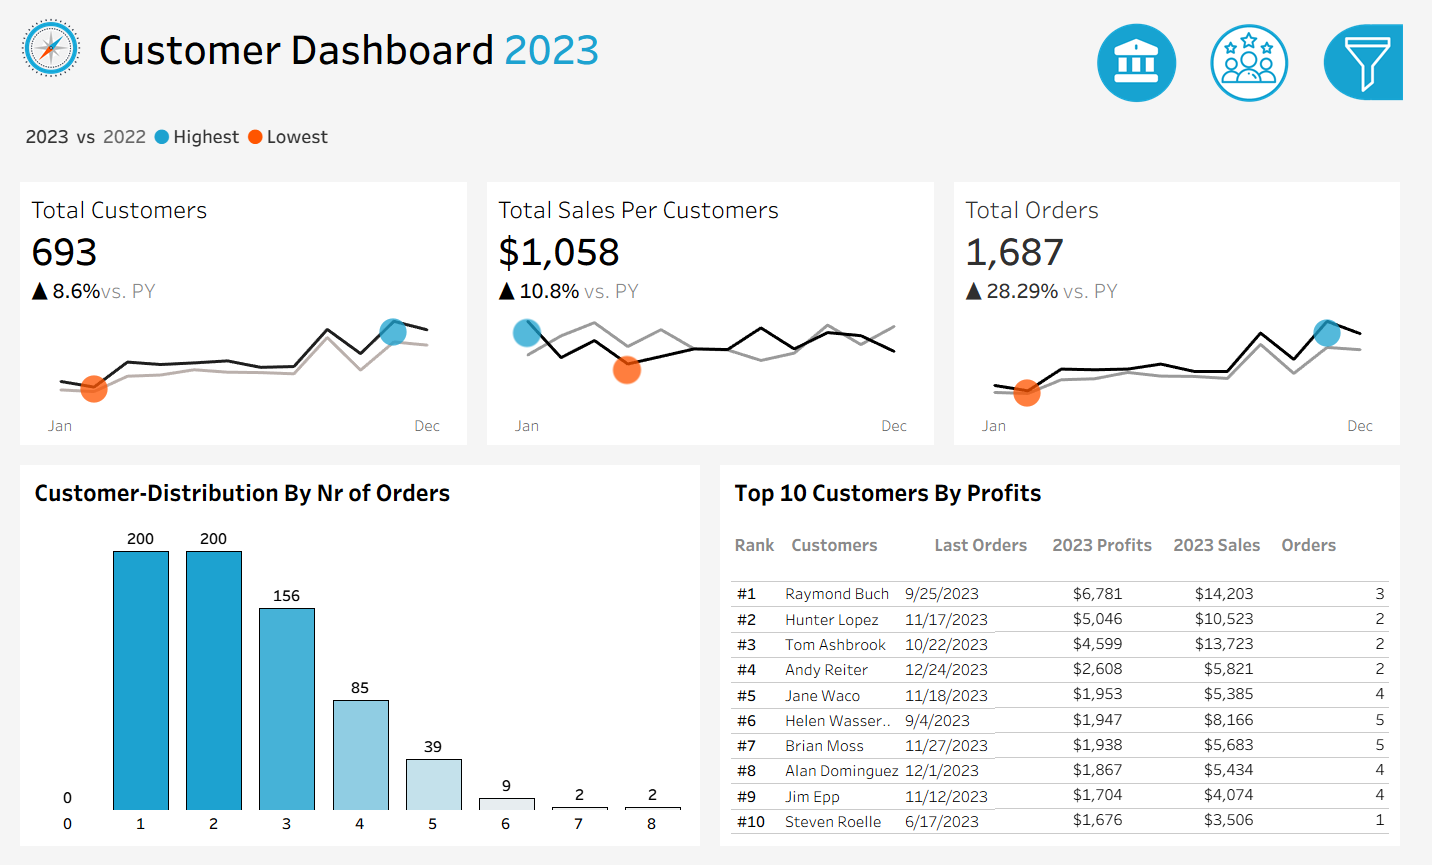

What the dashboard file says about the page in this screenshot:
{"tool":"tableau","page":{"name":"Customer Dashboard","canvas":[1400,850],"ordinal":0},"visuals":[{"type":"image","param":"C:/data science/Tableau/sales-dashboard-project/sales-dashboard-project/images/I","box":[0,0,81,84]},{"type":"text","box":[81,0,822,84]},{"type":"dashboard-object","box":[1070,12,113,89]},{"type":"blank","box":[1091,12,294,174]},{"type":"dashboard-object","box":[1183,12,113,89]},{"type":"worksheet","title":"Lengend-KPI","mark":"Automatic","box":[0,84,1400,92]},{"type":"worksheet","title":"Total customers","mark":"Line","rows":["Calculation_0939259677081603"],"cols":["Order Date"],"box":[0,176,467,273]},{"type":"worksheet","title":"Total Sales Per Customer","mark":"Line","rows":["Calculation_1019249204457475"],"cols":["Order Date"],"box":[467,176,467,273]},{"type":"worksheet","title":"Total Orders","mark":"Automatic","rows":["Calculation_0274330101301251"],"cols":["Order Date"],"box":[934,176,466,273]},{"type":"text","box":[1091,186,294,33]},{"type":"parameter","param":"[Parameters].[Parameter 1]","box":[1091,219,294,50]},{"type":"text","box":[1091,269,294,42]},{"type":"filter","title":"Customer-Distribution","param":"[federated.15w8pxc0wz6nvw103faom127oov1].[none:Category:nk]","box":[1091,311,294,61]},{"type":"filter","title":"Customer-Distribution","param":"[federated.15w8pxc0wz6nvw103faom127oov1].[none:Sub-Category:nk]","box":[1091,372,294,61]},{"type":"blank","box":[1091,433,294,32]},{"type":"text","box":[1091,465,294,33]},{"type":"text","box":[17,466,666,40]},{"type":"text","box":[717,466,666,40]},{"type":"filter","title":"Customer-Distribution","param":"[federated.15w8pxc0wz6nvw103faom127oov1].[none:Region:nk]","box":[1091,498,294,61]},{"type":"worksheet","title":"Customer-Distribution","mark":"Bar","rows":["Calculation_0939259674648576"],"cols":["Calculation_1337832757276672"],"box":[17,506,666,327]},{"type":"text","box":[717,506,57,65]},{"type":"text","box":[774,506,142.7,65]},{"type":"text","box":[916.7,506,118.7,65]},{"type":"text","box":[1035.3,506,121,65]},{"type":"text","box":[1156.3,506,108,65]},{"type":"text","box":[1264.3,506,118.7,65]},{"type":"filter","title":"Customer-Distribution","param":"[federated.15w8pxc0wz6nvw103faom127oov1].[none:State:nk]","box":[1091,559,294,61]},{"type":"worksheet","title":"Top Customers","mark":"Automatic","rows":["Calculation_0677301347041282","Customer Name","Order Date"],"box":[717,571,666,262]},{"type":"filter","title":"Customer-Distribution","param":"[federated.15w8pxc0wz6nvw103faom127oov1].[none:City:nk]","box":[1091,620,294,61]}]}

Visuals, with their boxes in screenshot pixels (x1, y1, x2, y2), scaled from the page's 1400x850 canvas onto the 1432x865 screenshot:
image: [0,0,83,85]
text: [83,0,924,85]
dashboard-object: [1094,12,1210,103]
blank: [1116,12,1417,189]
dashboard-object: [1210,12,1326,103]
"Lengend-KPI" worksheet: [0,85,1431,179]
"Total customers" worksheet (Line marks): [0,179,478,457]
"Total Sales Per Customer" worksheet (Line marks): [478,179,955,457]
"Total Orders" worksheet: [955,179,1431,457]
text: [1116,189,1417,223]
parameter: [1116,223,1417,274]
text: [1116,274,1417,316]
"Customer-Distribution" filter: [1116,316,1417,379]
"Customer-Distribution" filter: [1116,379,1417,441]
blank: [1116,441,1417,473]
text: [1116,473,1417,507]
text: [17,474,699,515]
text: [733,474,1415,515]
"Customer-Distribution" filter: [1116,507,1417,569]
"Customer-Distribution" worksheet (Bar marks): [17,515,699,848]
text: [733,515,792,581]
text: [792,515,938,581]
text: [938,515,1059,581]
text: [1059,515,1183,581]
text: [1183,515,1293,581]
text: [1293,515,1415,581]
"Customer-Distribution" filter: [1116,569,1417,631]
"Top Customers" worksheet: [733,581,1415,848]
"Customer-Distribution" filter: [1116,631,1417,693]
